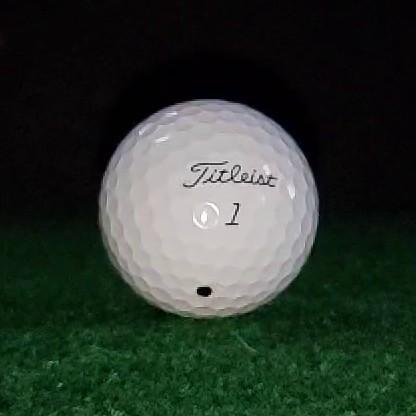golfball: (100, 100, 319, 318)
